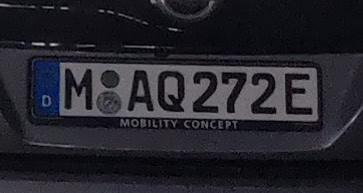2: (248, 70, 279, 116), (190, 70, 220, 114)
7: (221, 70, 248, 115)
A: (126, 68, 154, 112)
E: (282, 70, 313, 116)
M: (62, 66, 94, 111)
Q: (155, 68, 187, 113)
